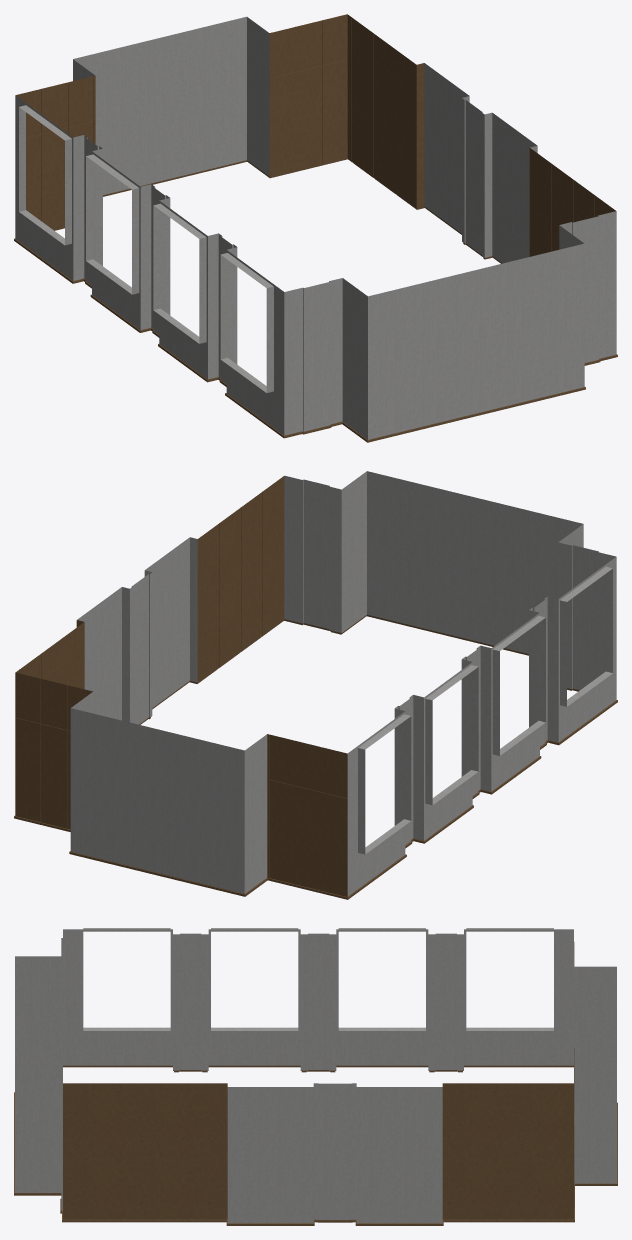
The model's file is CR06_Wall.FBX.
3 views of the same model, one above another, from view 1: azimuth 30°, elevation 25°; view 2: azimuth 150°, elevation 25°; view 3: azimuth 270°, elevation 25° (orthographic). The views are drawn at different scales.
Parts seen in each view (by area): view 1: CR06_Wall; view 2: CR06_Wall; view 3: CR06_Wall.
Part boxes in pixels (x1,y1,x2,y2): CR06_Wall: (14,14,617,442); CR06_Wall: (14,471,617,899); CR06_Wall: (14,928,617,1225).
Bounding box in the file's own units: 7993 × 3199 × 12649.
